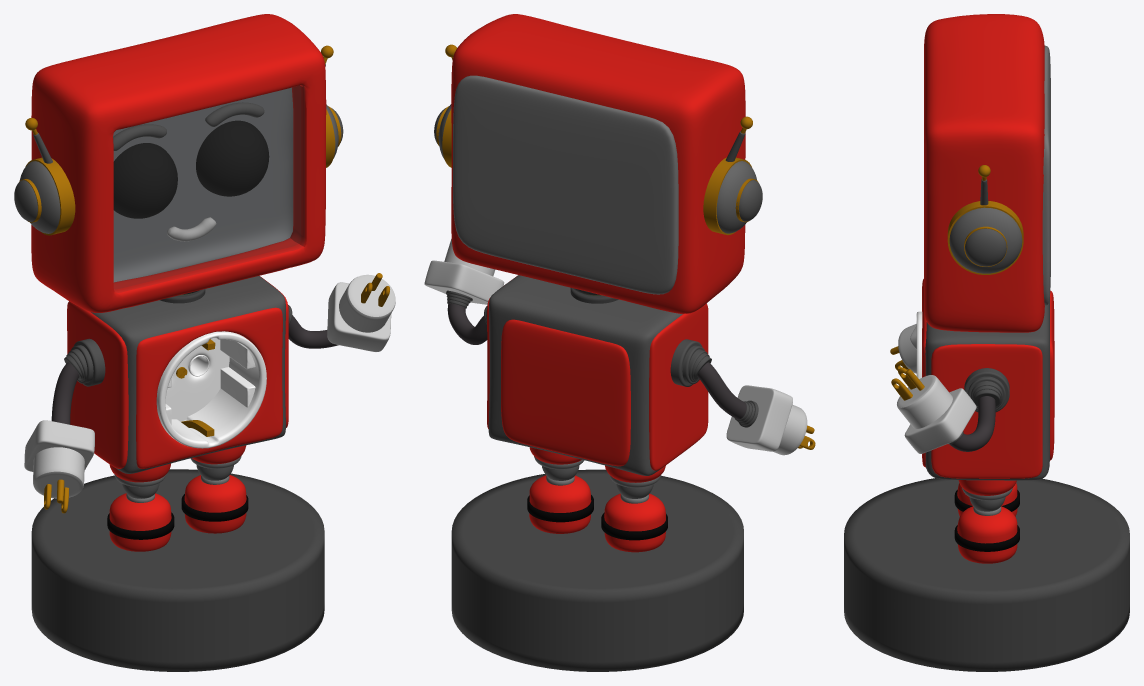
3 renders of one model, left to right at view 1: azimuth 30°, elevation 25°; view 2: azimuth 150°, elevation 25°; view 3: azimuth 270°, elevation 25°, orthographic. The views are drawn at different scales.
Visible parts, largest first — view 1: Head, Stand, Screen, Decorative panels, Socket_plastic elements, Eyes, Body, Legs_element_6, Hands_element_5, Hands_element_4, Hands_element_2, Ears_element_2 (+9 smaller); view 2: Decorative panels, Stand, Head, Body, Legs_element_6, Hands_element_4, Hands_element_2, Ears_element_2, Ears_element_1, Legs_element_5, Hands_element_1, Hands_element_5 (+4 smaller); view 3: Stand, Head, Decorative panels, Body, Legs_element_6, Ears_element_2, Hands_element_5, Hands_element_4, Hands_element_1, Ears_element_4, Hands_element_2, Legs_element_5 (+3 smaller).
Boxes of the visible parts, x1,y1,x2,y2 form: Head: (31,14,326,312); Stand: (31,469,324,671); Screen: (113,85,304,292); Decorative panels: (67,276,288,468); Socket_plastic elements: (156,331,266,448); Eyes: (113,120,269,218); Body: (91,276,285,473); Legs_element_6: (109,475,246,551); Hands_element_5: (33,274,395,498); Hands_element_4: (24,282,391,471); Hands_element_2: (51,315,338,424); Ears_element_2: (19,104,338,233); Decorative panels: (453,75,708,470); Stand: (451,469,743,671); Head: (451,14,745,313); Body: (488,275,682,475); Legs_element_6: (529,475,665,552); Hands_element_4: (424,260,792,451); Hands_element_2: (447,303,746,419); Ears_element_2: (438,104,757,233); Ears_element_1: (442,109,751,235); Legs_element_5: (527,495,667,540); Hands_element_1: (484,306,711,386); Hands_element_5: (444,239,807,455); Stand: (844,478,1129,671); Head: (924,14,1044,332); Decorative panels: (922,45,1054,478); Body: (925,297,1049,480); Legs_element_6: (957,483,1017,563); Ears_element_2: (949,207,1022,273); Hands_element_5: (897,324,952,428); Hands_element_4: (904,326,976,453); Hands_element_1: (964,368,1009,412); Ears_element_4: (965,228,1006,266); Hands_element_2: (950,396,995,451); Legs_element_5: (954,490,1019,551).
Bounding box in the file's own units: 1.73 × 2.51 × 1.2.
